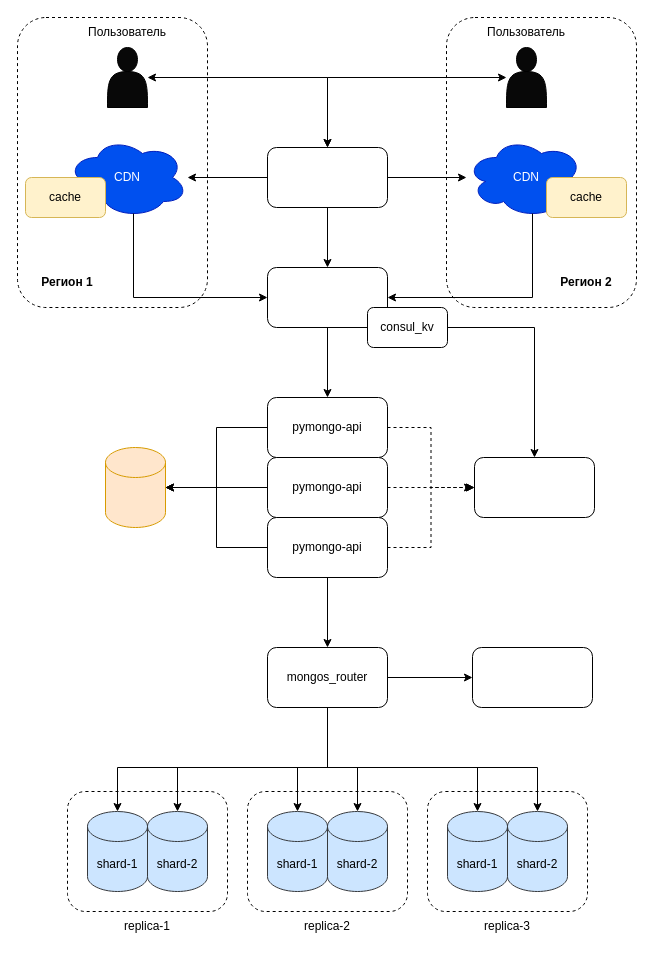
The diagram is 654 pixels wide and 959 high, and some of its shapes have lost their labels. The shapes that lost their labels are listed below. From the top down, each one's box as (x1, y1, x2, y2) in pixels, then its label:
(266, 146, 388, 208): Интернет-магазин
(266, 266, 388, 328): api-gw
(104, 446, 166, 528): redis
(474, 456, 594, 518): consul
(472, 646, 592, 708): configSrv
